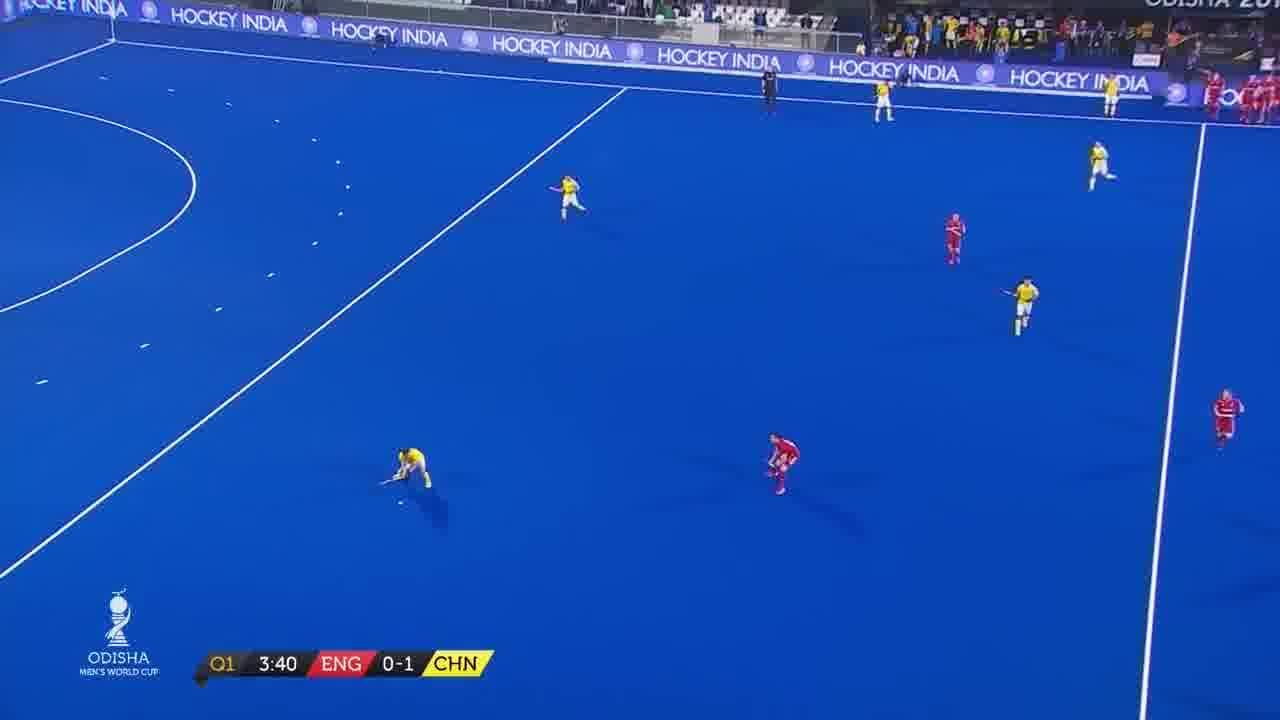ball: (395, 490, 410, 515)
